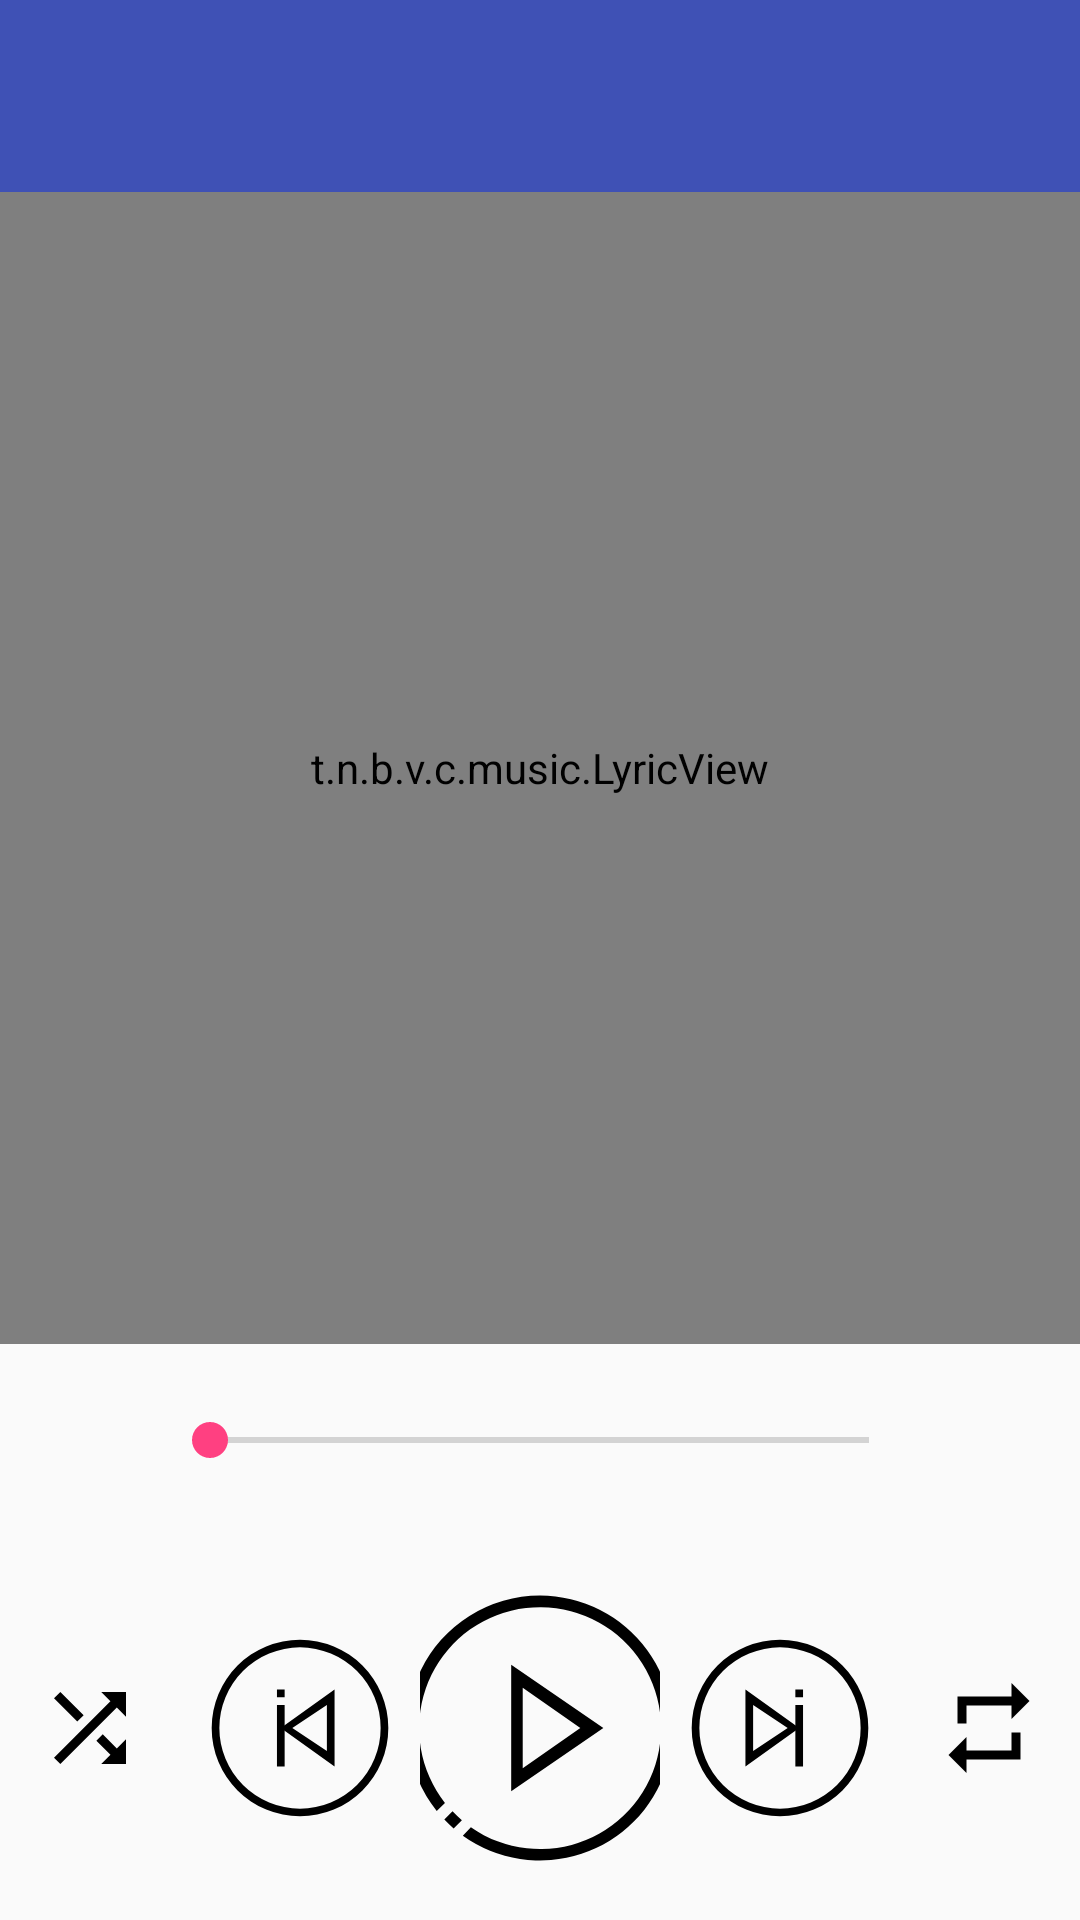

Screen size 1080px x 1920px. Icon name, then its center in pixels as [x,y]:
next: [780,1728]
play: [540,1728]
previous: [300,1728]
repeat: [989,1728]
shuffle: [90,1728]
